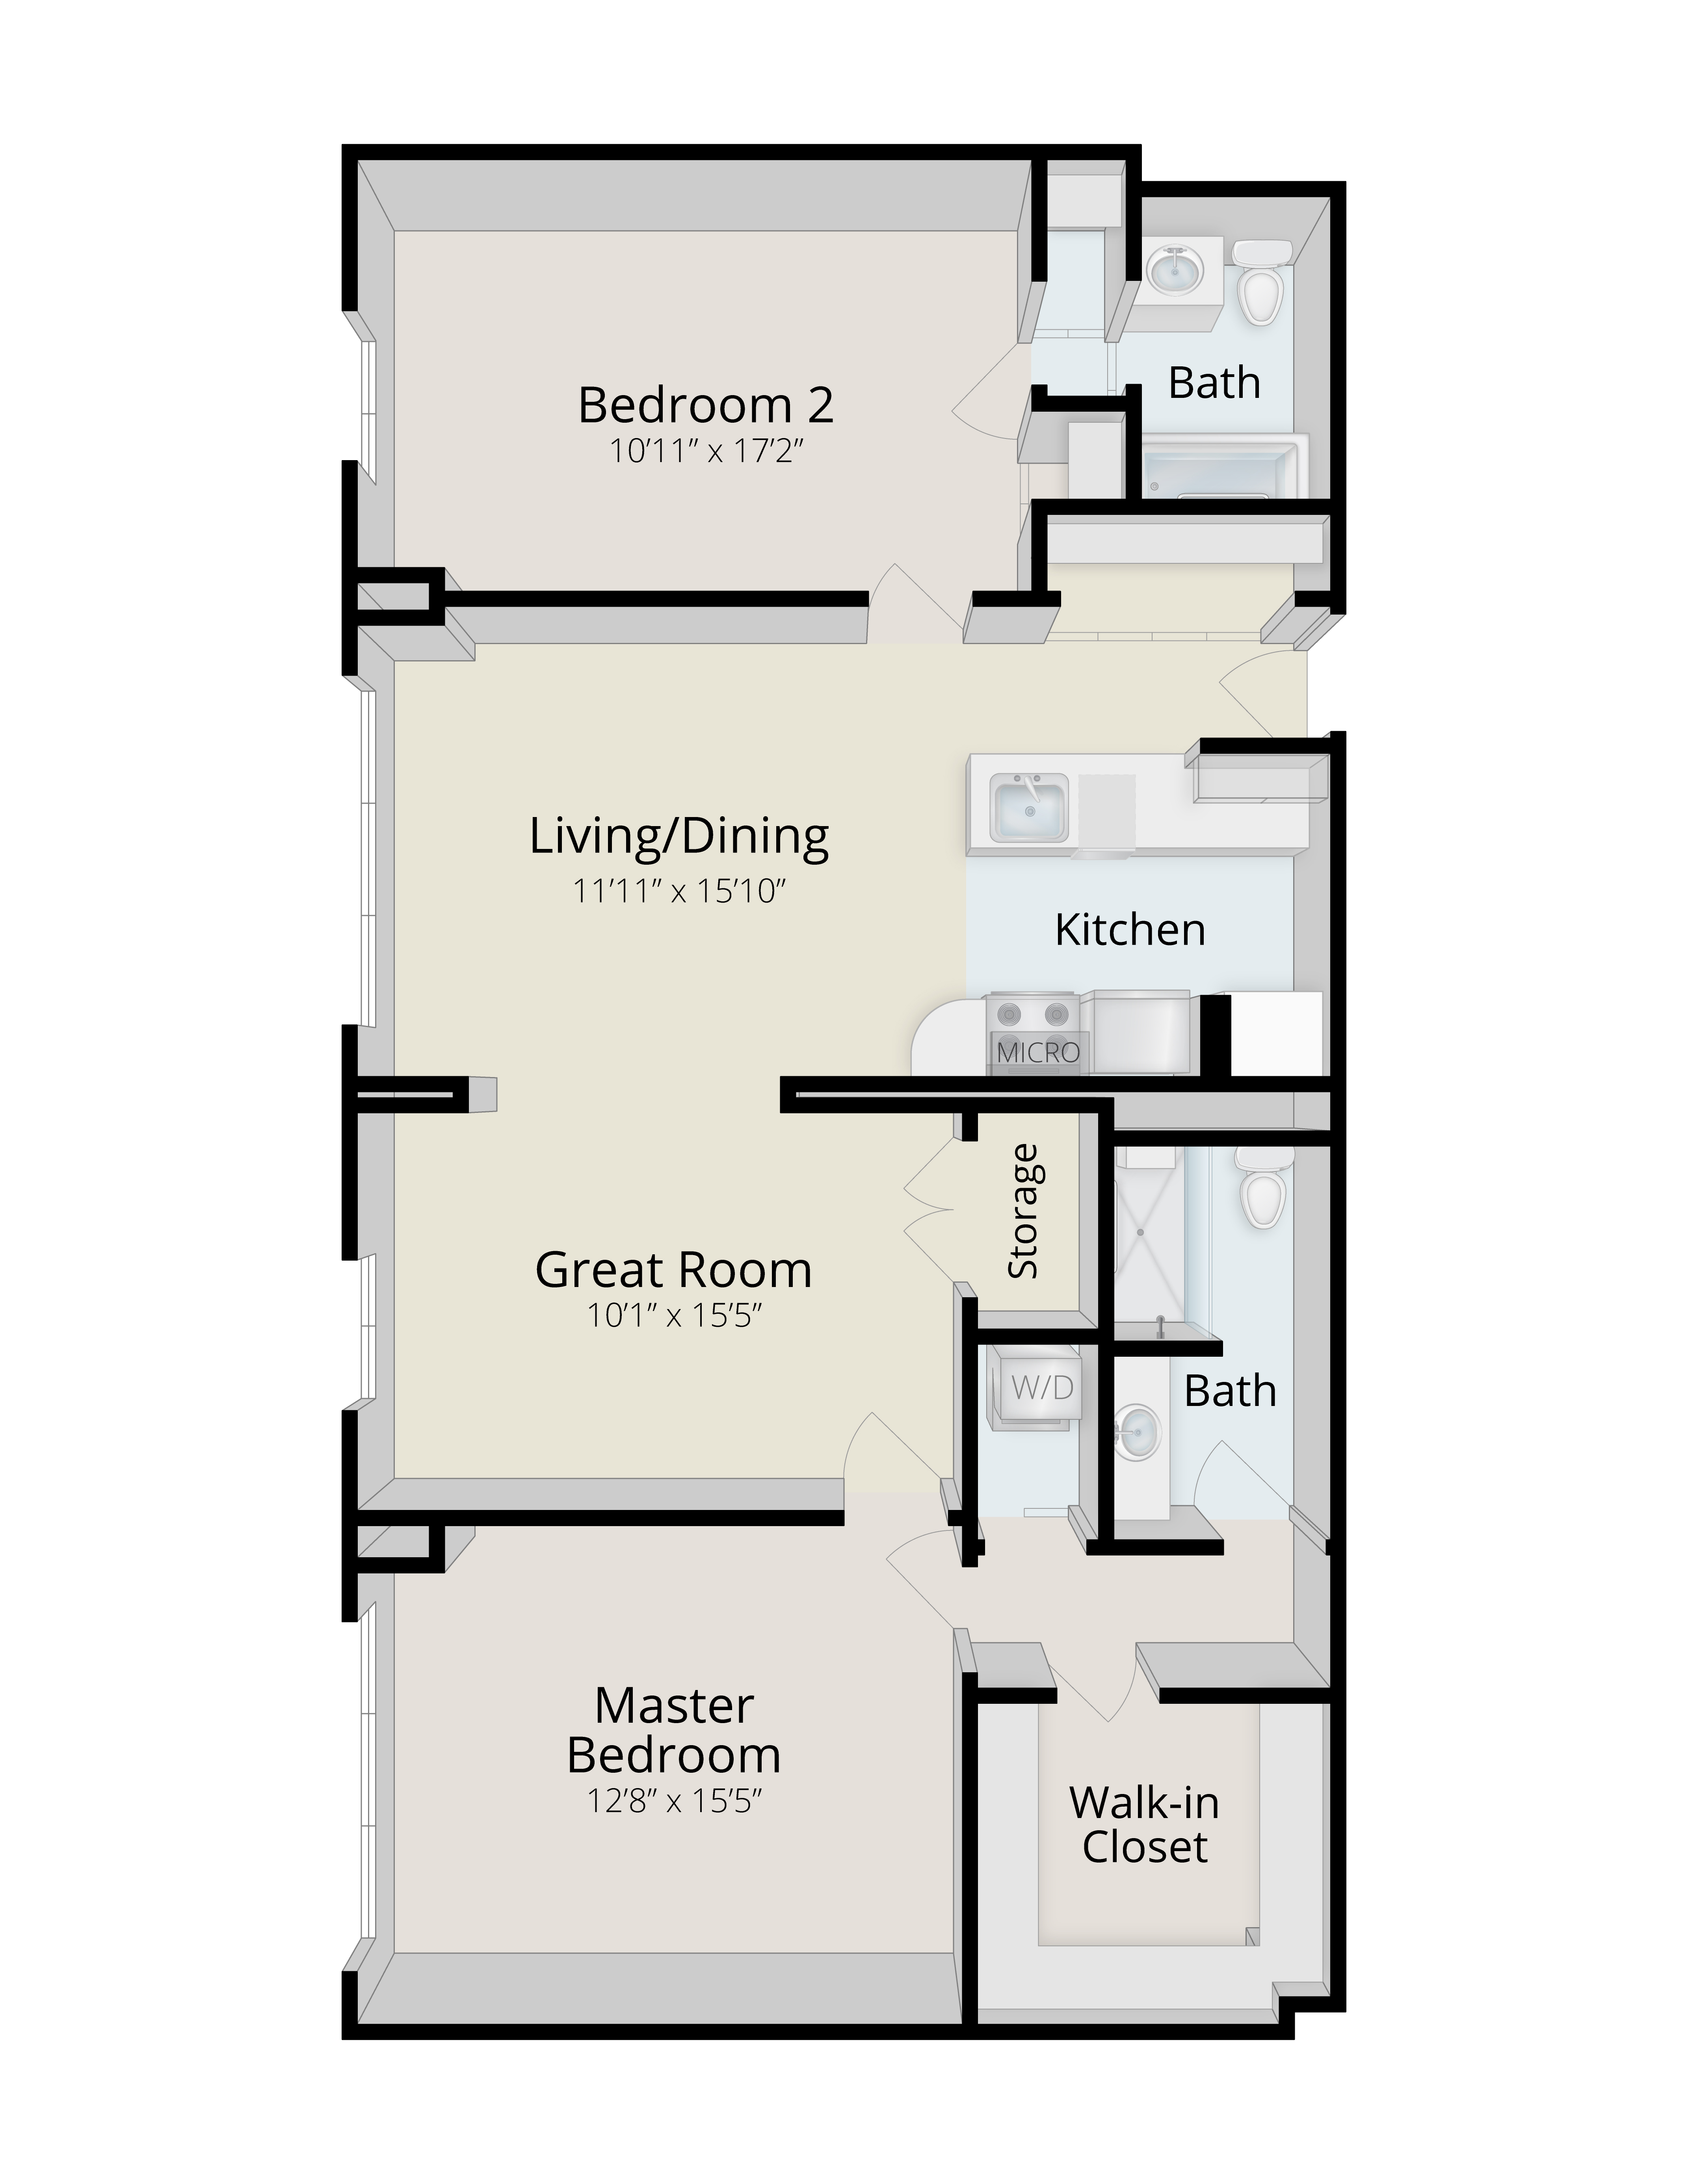wall: (344, 1494, 881, 1530), (777, 1072, 1330, 1104), (952, 1663, 989, 2056), (333, 2024, 972, 2046), (433, 581, 867, 610), (1323, 1136, 1344, 1691), (340, 135, 1142, 149), (1326, 760, 1351, 1150), (965, 2017, 1296, 2046), (330, 1402, 369, 1642), (337, 466, 369, 718), (1337, 188, 1355, 617), (961, 1294, 989, 1548), (1149, 174, 1348, 209), (780, 1101, 1110, 1122), (1333, 1702, 1355, 2017), (340, 1072, 484, 1115), (949, 1322, 1106, 1358), (344, 1025, 365, 1252), (1197, 729, 1348, 760), (1149, 1691, 1358, 1712), (1018, 156, 1053, 280), (1035, 388, 1168, 420), (1121, 156, 1153, 280), (1096, 1115, 1114, 1330), (1089, 1358, 1110, 1533), (968, 585, 1071, 620), (1085, 1533, 1218, 1560), (1200, 986, 1239, 1076), (337, 1961, 365, 2060), (340, 149, 355, 308), (1028, 493, 1053, 578), (355, 567, 440, 589), (348, 613, 440, 624)
